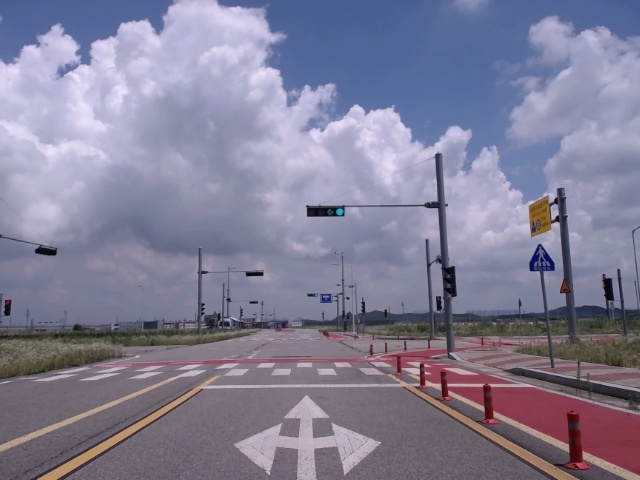all_green_4: (307, 205, 344, 219)
